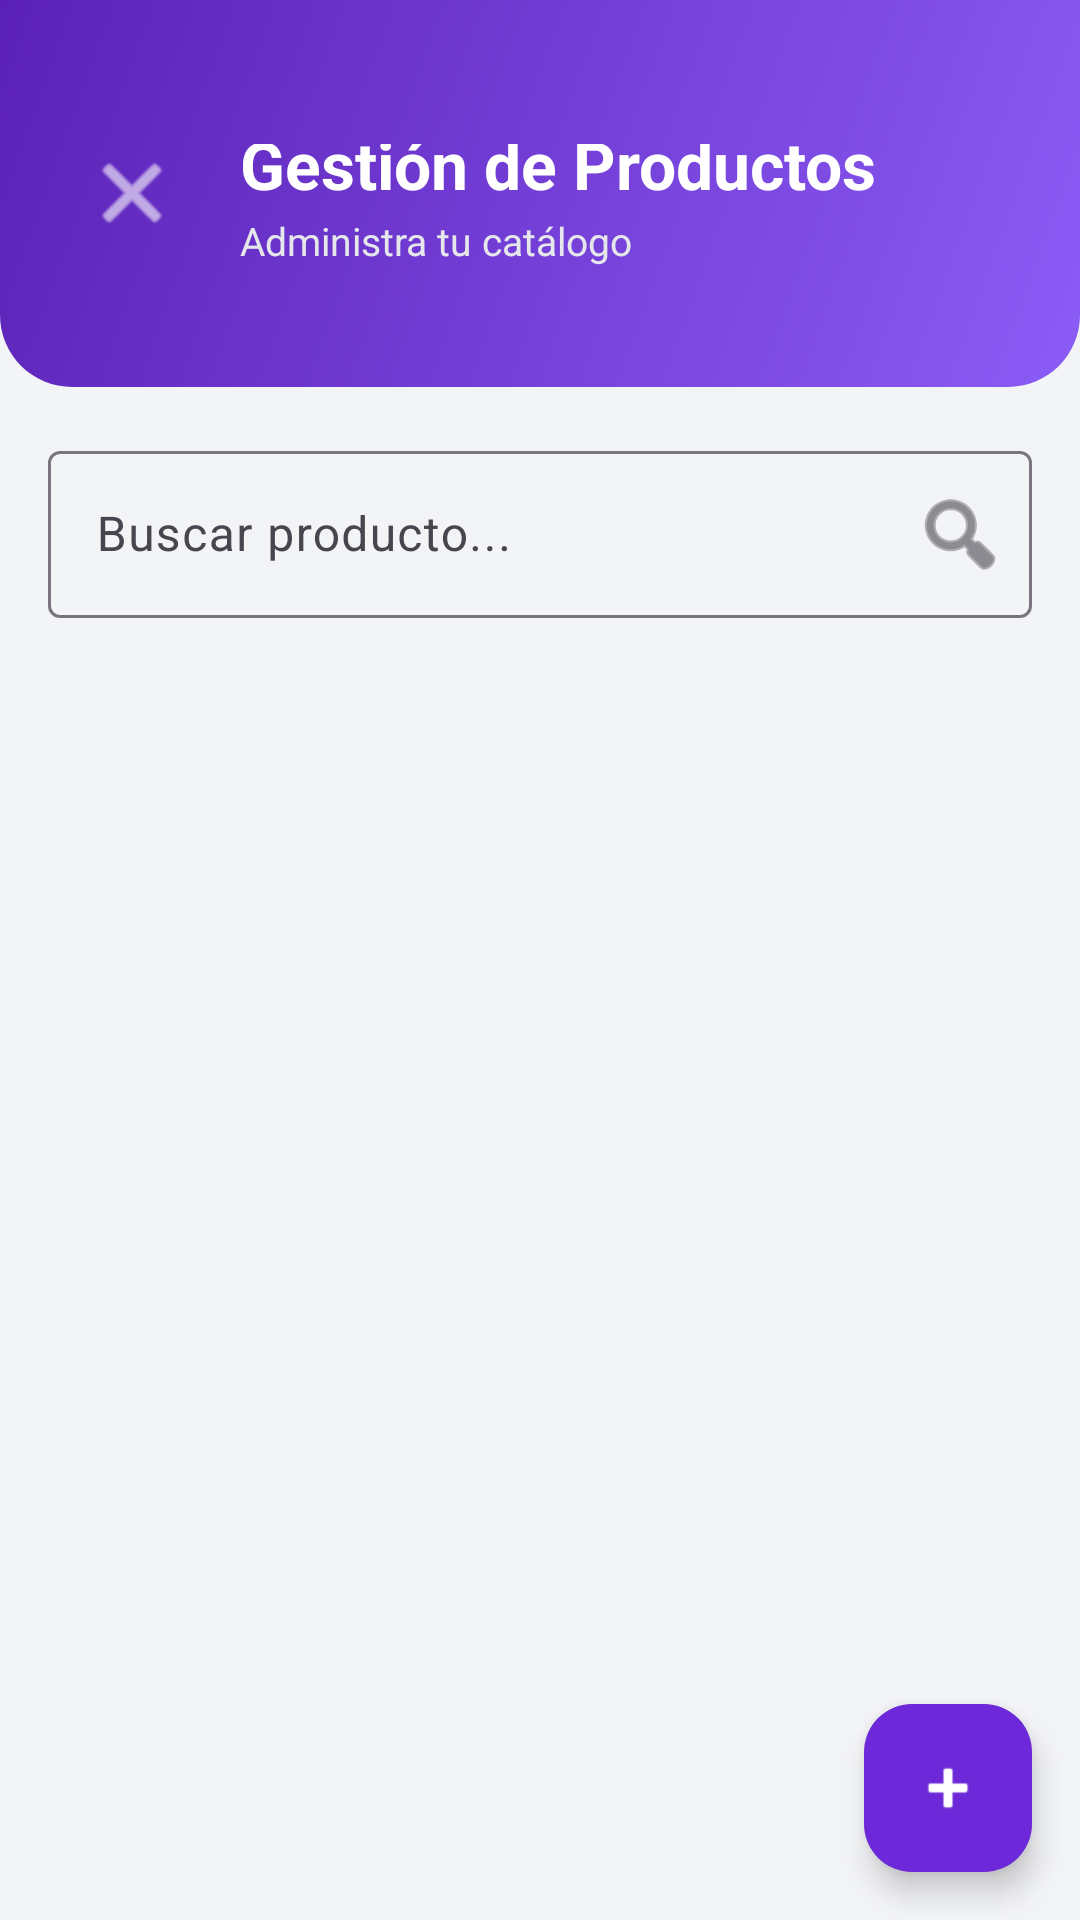

Named icons in this screenshot (1080 x 1920) and their bounding boxes, (x1, y1, x2, y2):
Agregar producto: (864, 1704, 1032, 1872)
Volver: (102, 163, 162, 223)
